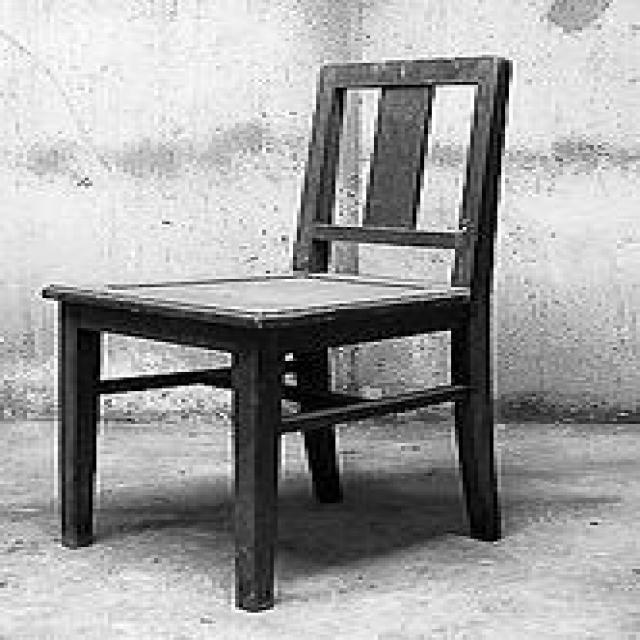chair: (40, 51, 522, 612)
